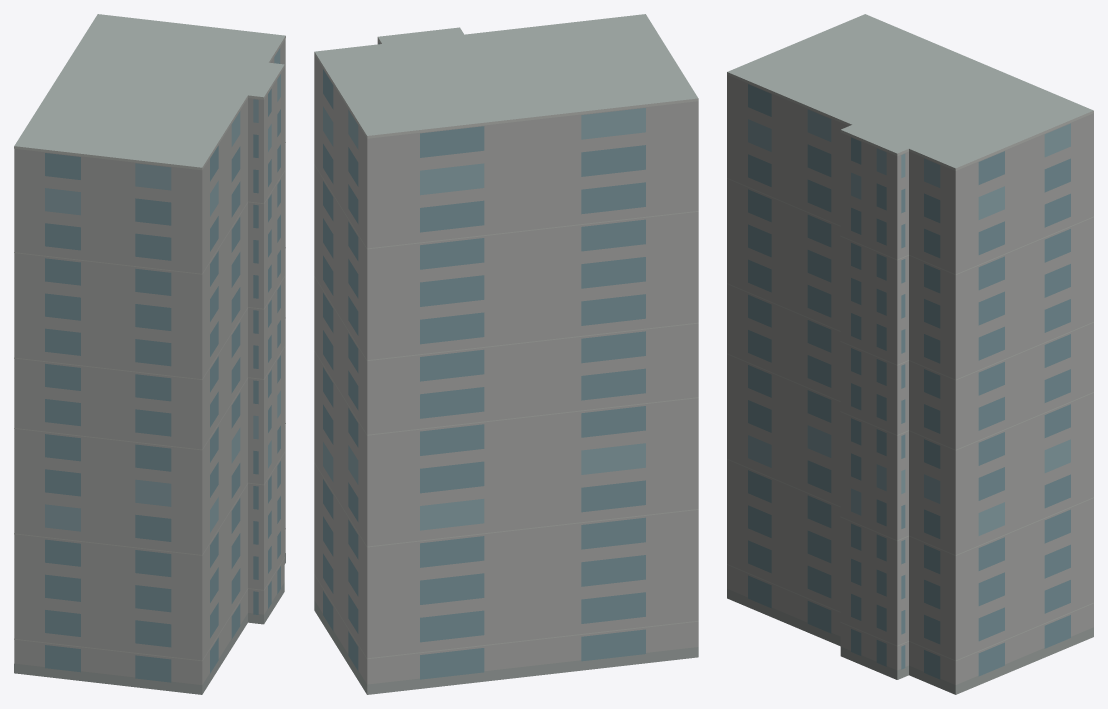
Rendered from survey-upis-32547673.glb.
3 views of the same model, side by side, from view 1: azimuth 30°, elevation 25°; view 2: azimuth 150°, elevation 25°; view 3: azimuth 270°, elevation 25° (orthographic). The views are drawn at different scales.
Visible parts, largest first — view 1: survey-upis-32547673.tmp; view 2: survey-upis-32547673.tmp; view 3: survey-upis-32547673.tmp.
Part boxes in pixels (x1=…): survey-upis-32547673.tmp: x1=14, y1=14, x2=285, y2=694; survey-upis-32547673.tmp: x1=314, y1=14, x2=698, y2=694; survey-upis-32547673.tmp: x1=727, y1=14, x2=1093, y2=694.
Size of the model in its own units: 31.04 by 49.3 by 31.14.
